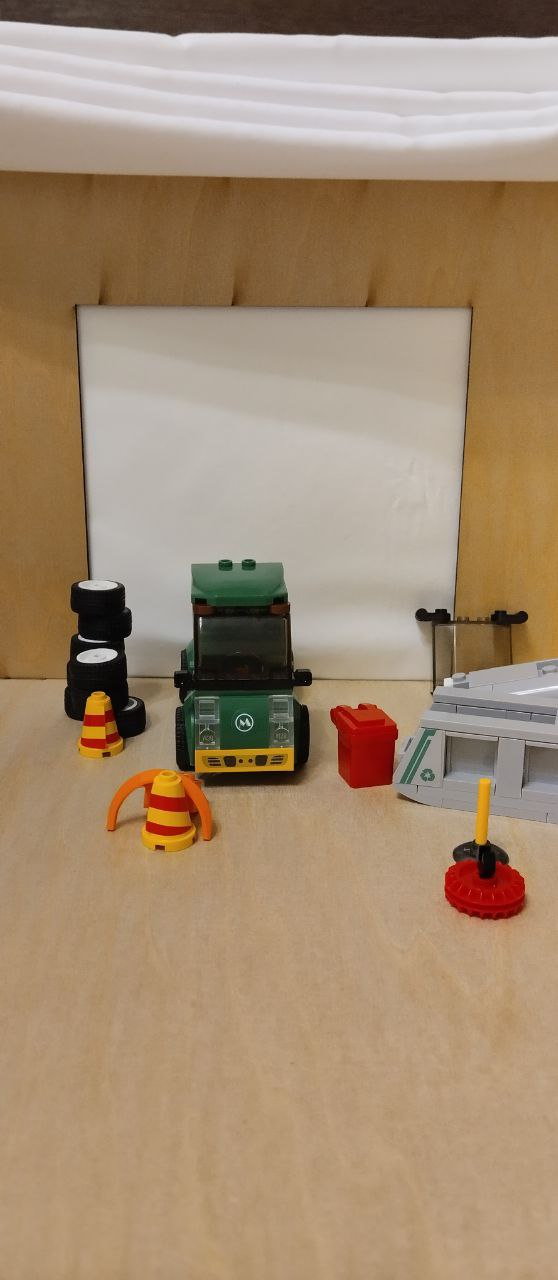Cone: (138, 772, 207, 856), (78, 691, 130, 759)
Object Red: (326, 699, 403, 795)
Truck: (170, 556, 315, 789)
